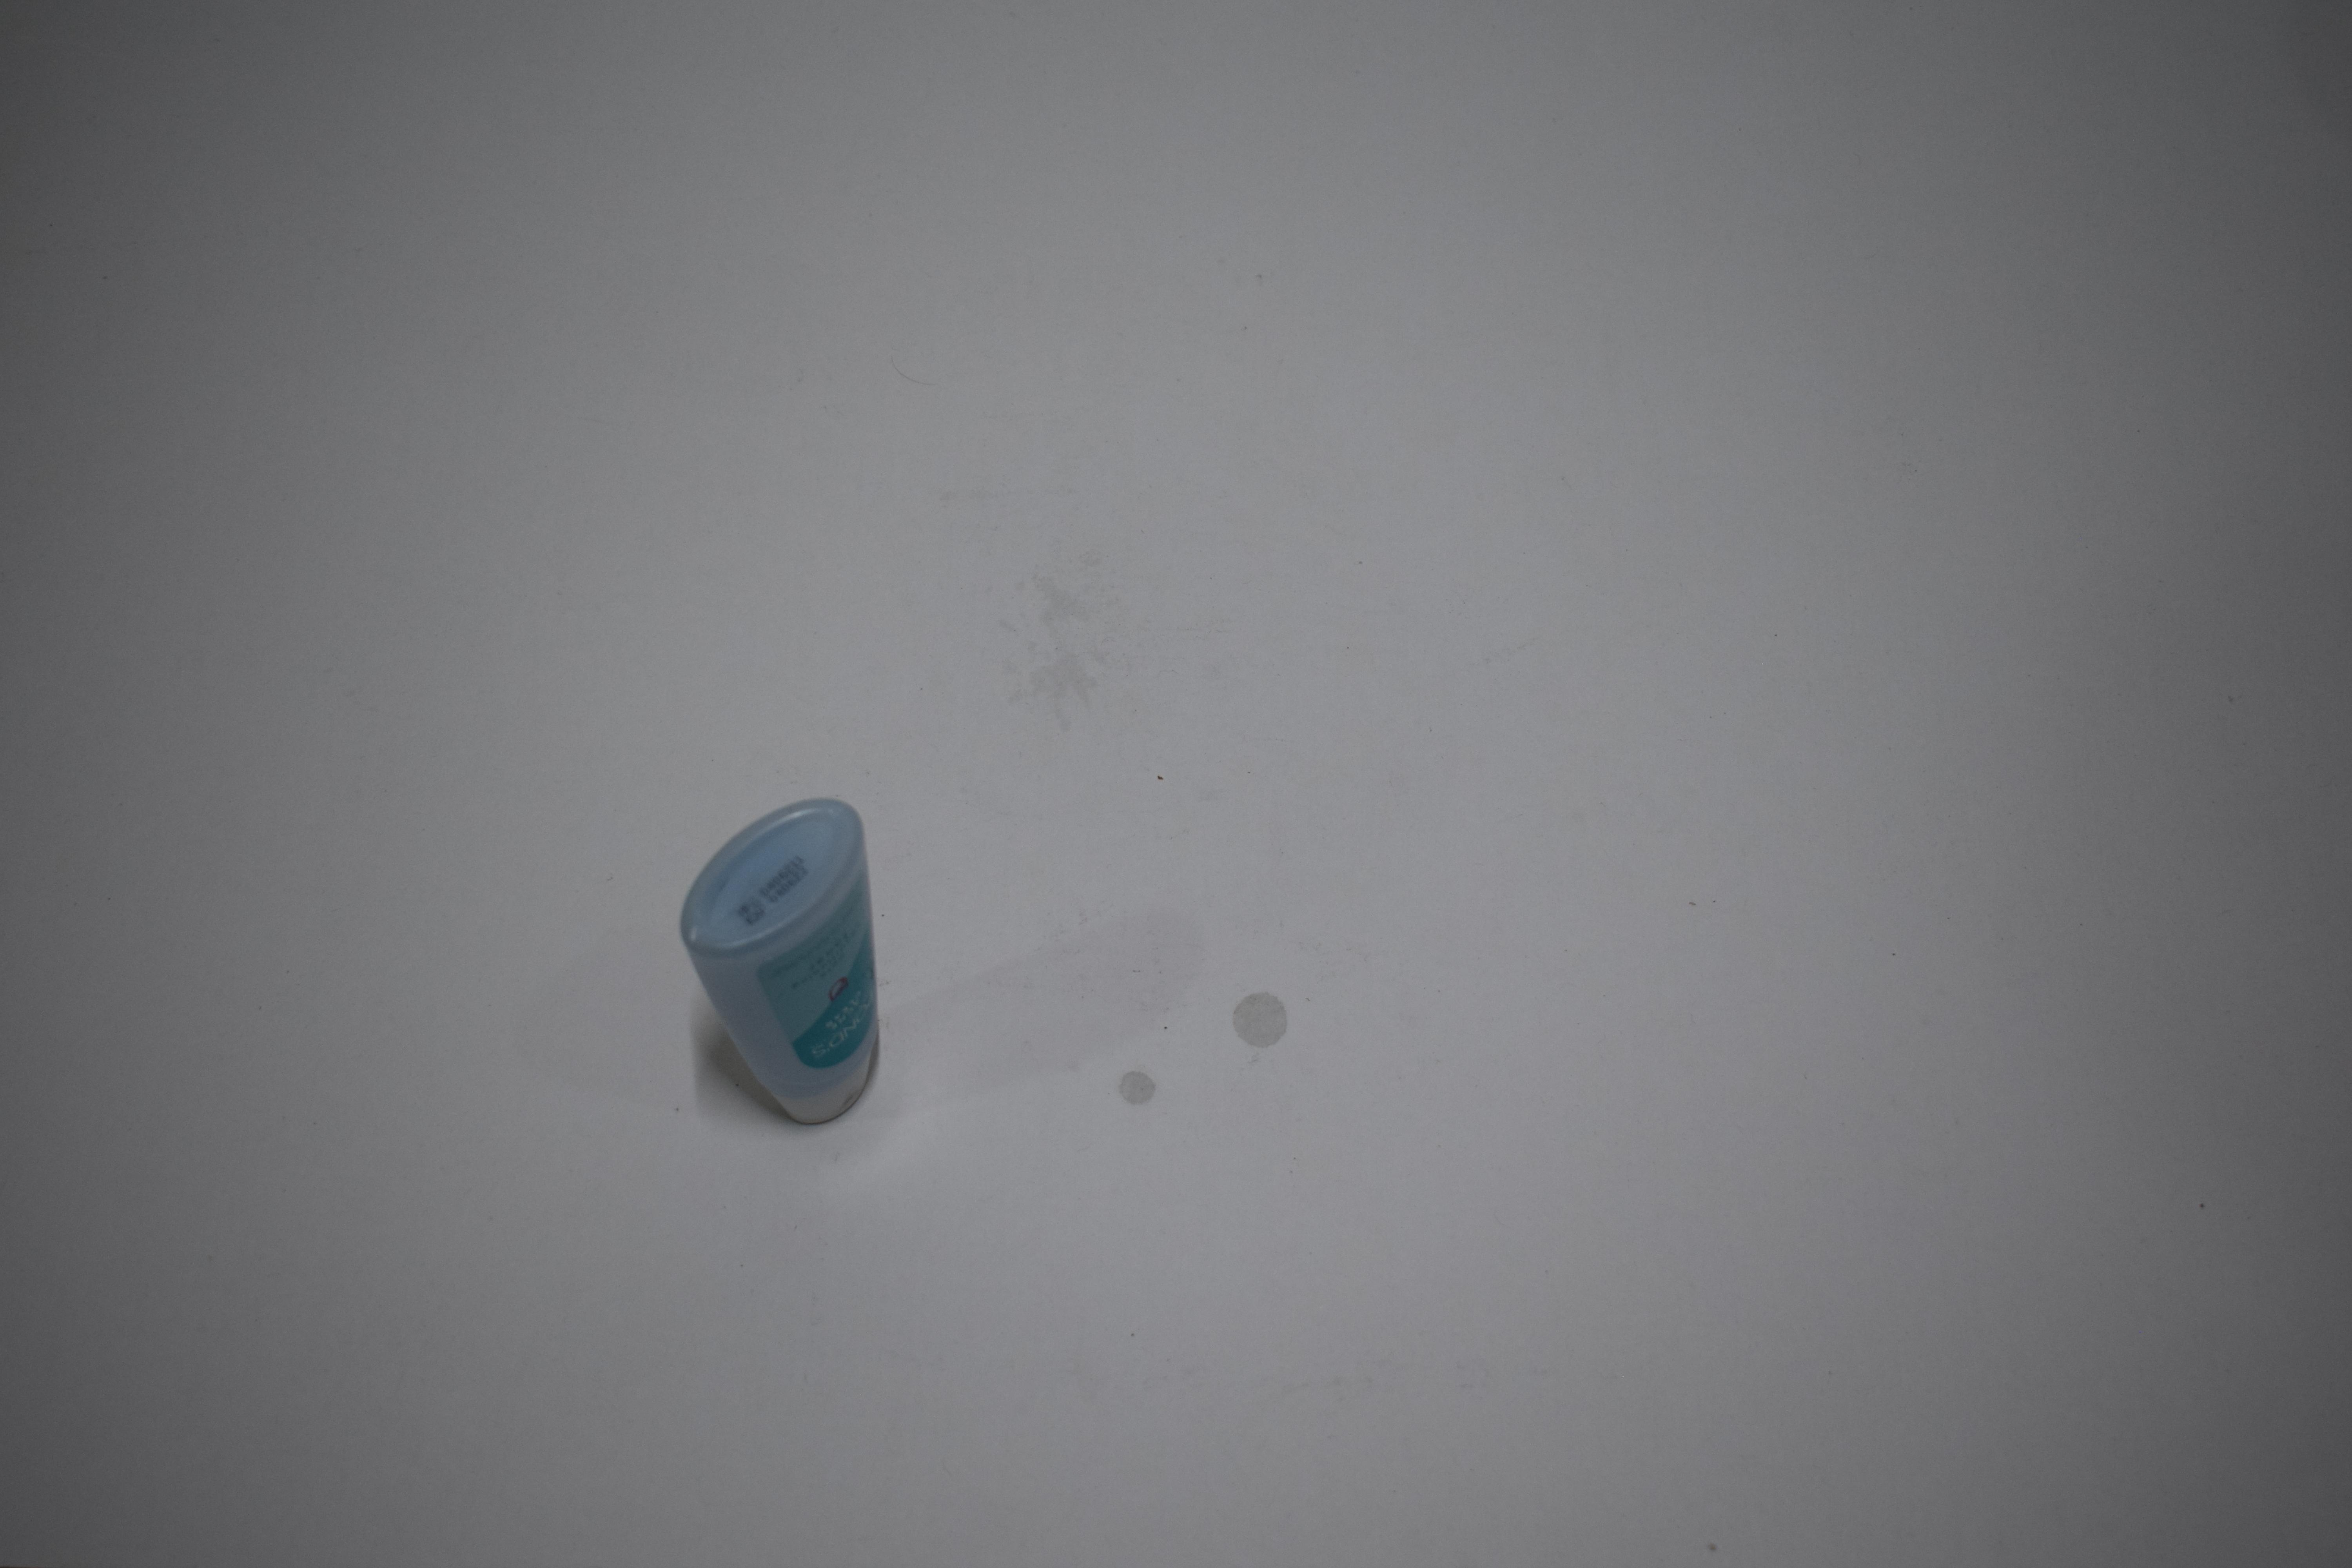bottle: (667, 788, 886, 1132)
